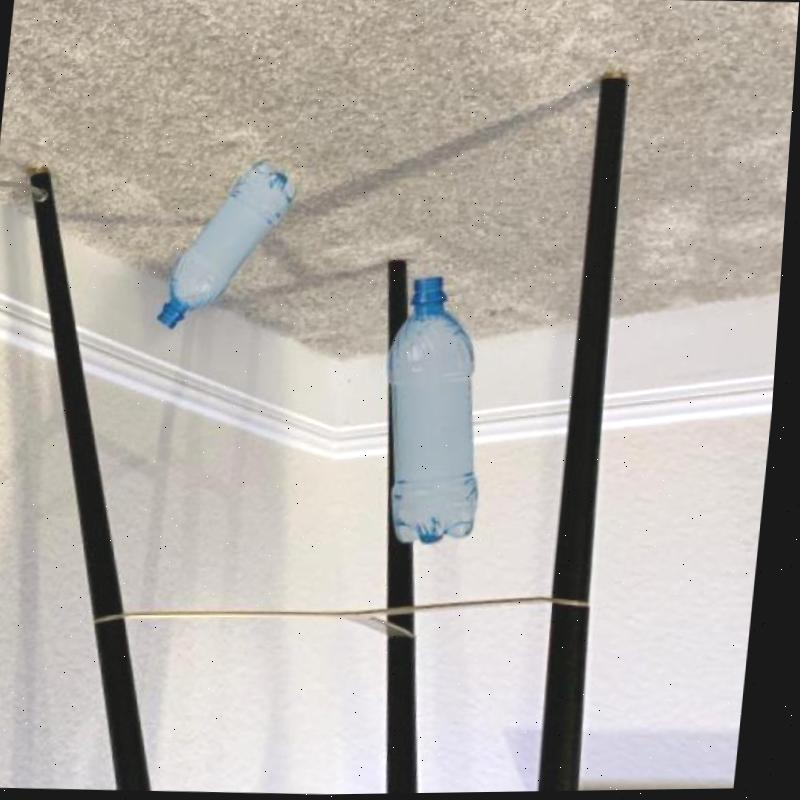botella: (375, 274, 506, 547), (158, 157, 302, 332)
